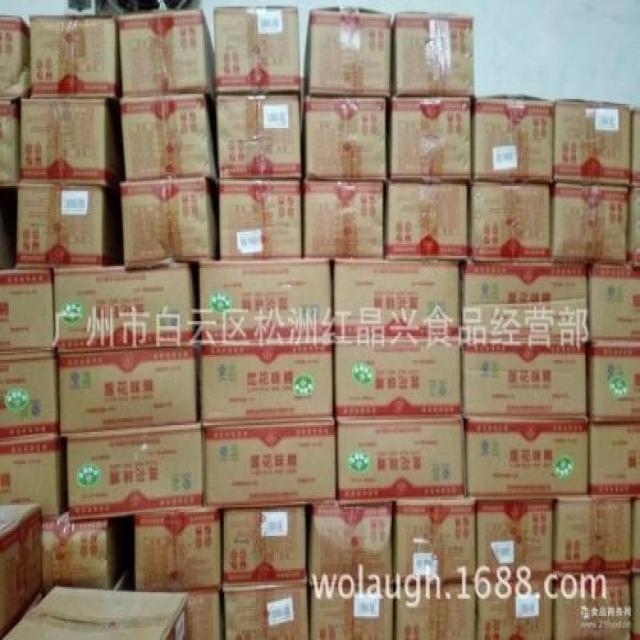box: (54, 263, 200, 352), (67, 427, 204, 519), (204, 420, 337, 512), (56, 350, 198, 432), (201, 259, 335, 345), (337, 415, 467, 503), (200, 345, 333, 428), (334, 338, 463, 422), (335, 261, 462, 345), (467, 415, 589, 502), (463, 338, 588, 418), (463, 265, 589, 340), (4, 589, 188, 640), (19, 99, 115, 191), (122, 177, 219, 268), (214, 5, 301, 106), (122, 94, 219, 183), (118, 10, 214, 97), (303, 5, 390, 101), (308, 502, 396, 587), (394, 497, 479, 585), (134, 507, 221, 592), (390, 12, 475, 97), (18, 184, 104, 268), (303, 176, 387, 261), (553, 97, 631, 188), (29, 15, 115, 97), (475, 92, 552, 183), (216, 97, 301, 179), (223, 505, 307, 587), (390, 97, 471, 181), (554, 490, 632, 577), (305, 99, 387, 181), (549, 183, 630, 263), (474, 497, 552, 580), (388, 181, 468, 259), (219, 183, 301, 259), (471, 183, 550, 259), (0, 500, 44, 633), (0, 437, 68, 521), (40, 519, 118, 592), (554, 575, 634, 640), (0, 355, 58, 442), (477, 577, 554, 640), (0, 268, 55, 355), (393, 584, 477, 640), (224, 585, 308, 640), (310, 587, 396, 640), (589, 340, 640, 422), (589, 418, 640, 497), (589, 265, 640, 340), (0, 15, 29, 99), (0, 102, 20, 181), (187, 594, 220, 640), (627, 500, 640, 575), (631, 186, 640, 266), (631, 108, 640, 186)
